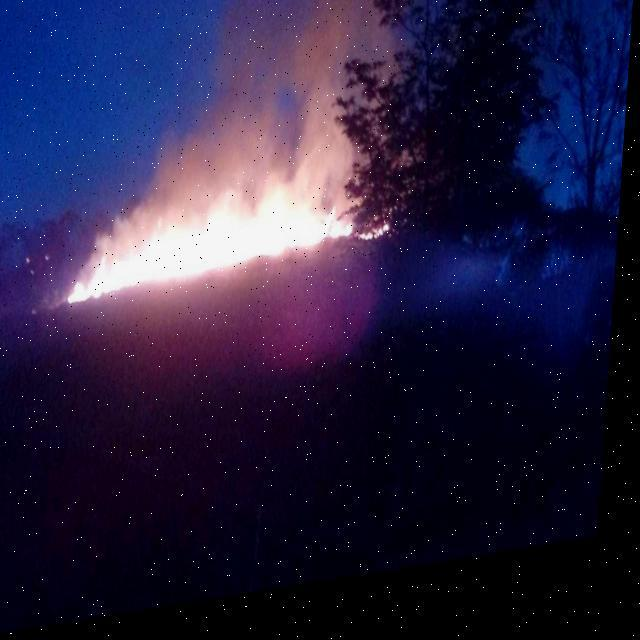Fire: (75, 186, 394, 298)
